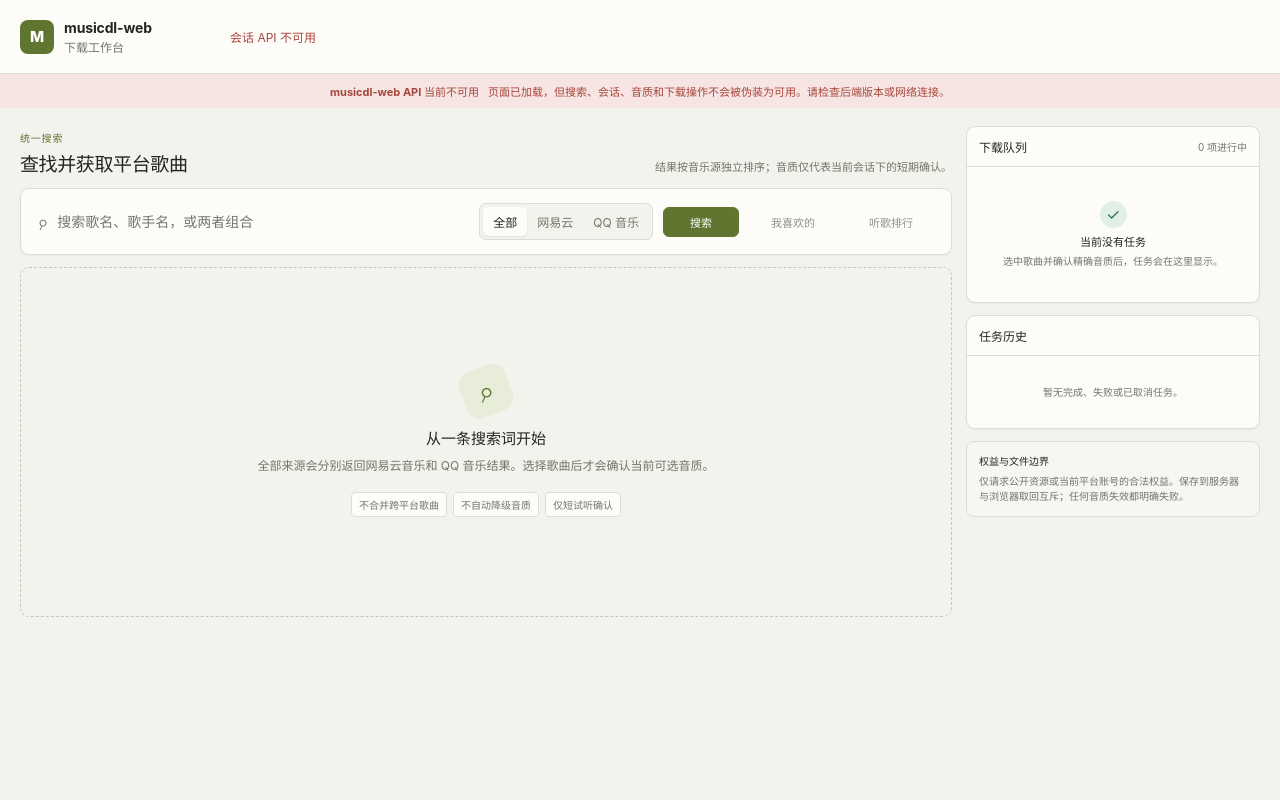
Test: WorkbenchView › never presents API failure as an available feature
Check: the message "musicdl-web API 当前不可用 页面已加载，但搜索、会话、音质和下载操作不会被伪装为可用。请检查后端版本或网络连接。" is shown, box x1=0 y1=74 x2=1279 y2=108
Type "测试" into the search field named "搜索词".
click(263, 222); type("测试")  # box x1=57 y1=204 x2=469 y2=240
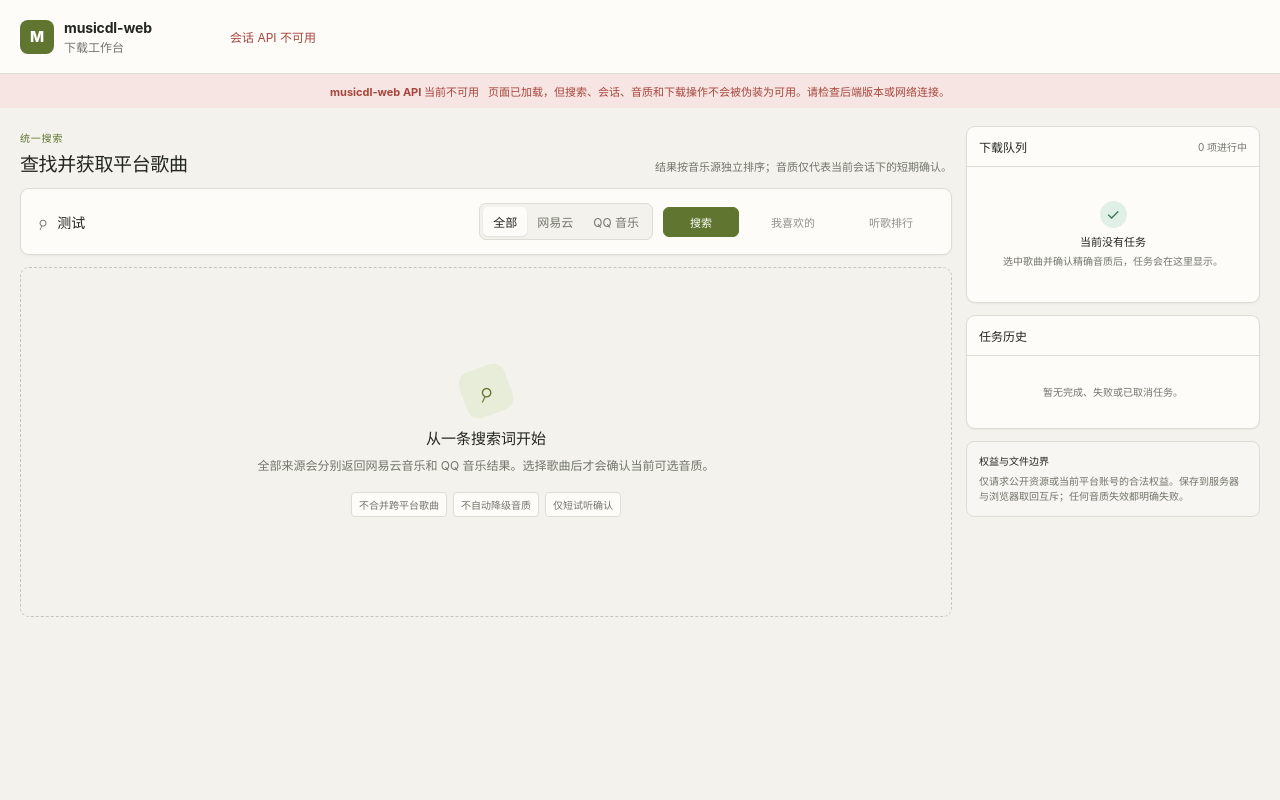
Click the button "搜索".
click(701, 222)  # box x1=663 y1=206 x2=739 y2=236
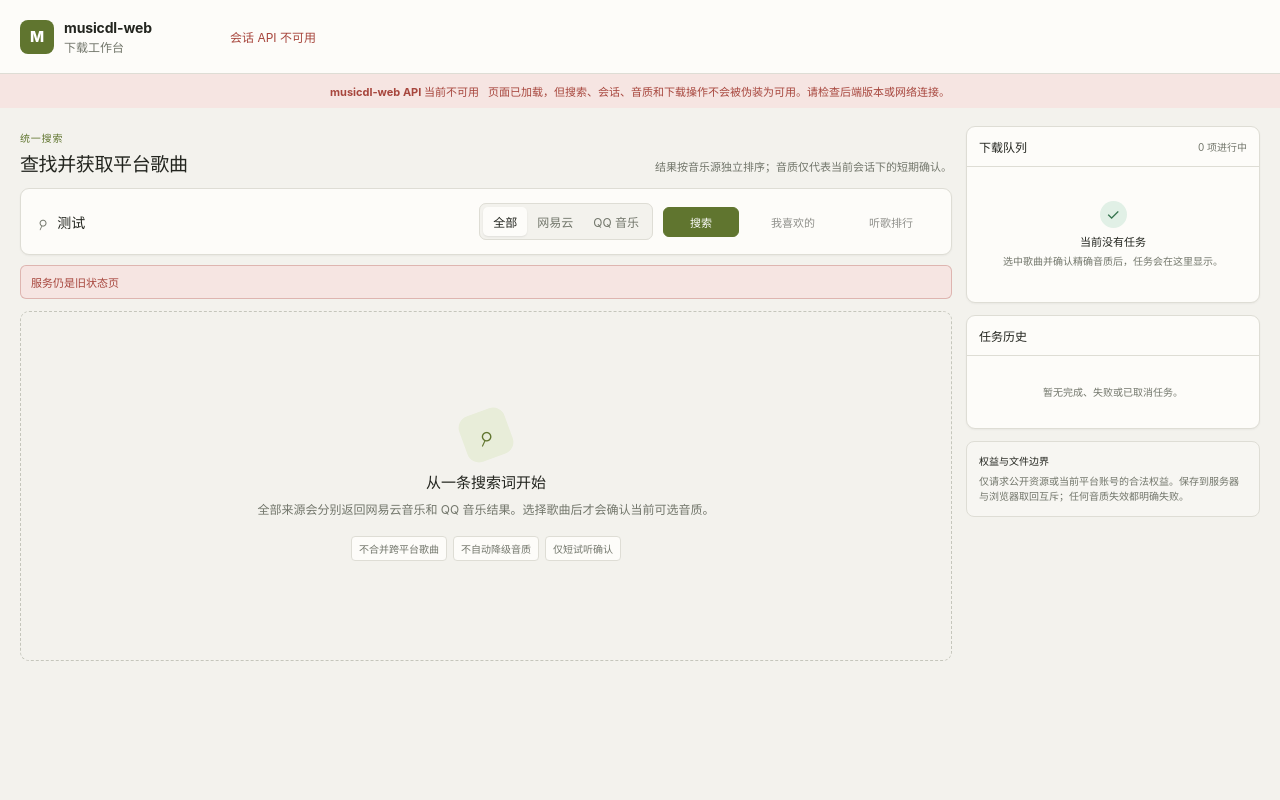
Check: the text "服务仍是旧状态页" is shown, box x1=20 y1=265 x2=952 y2=299
